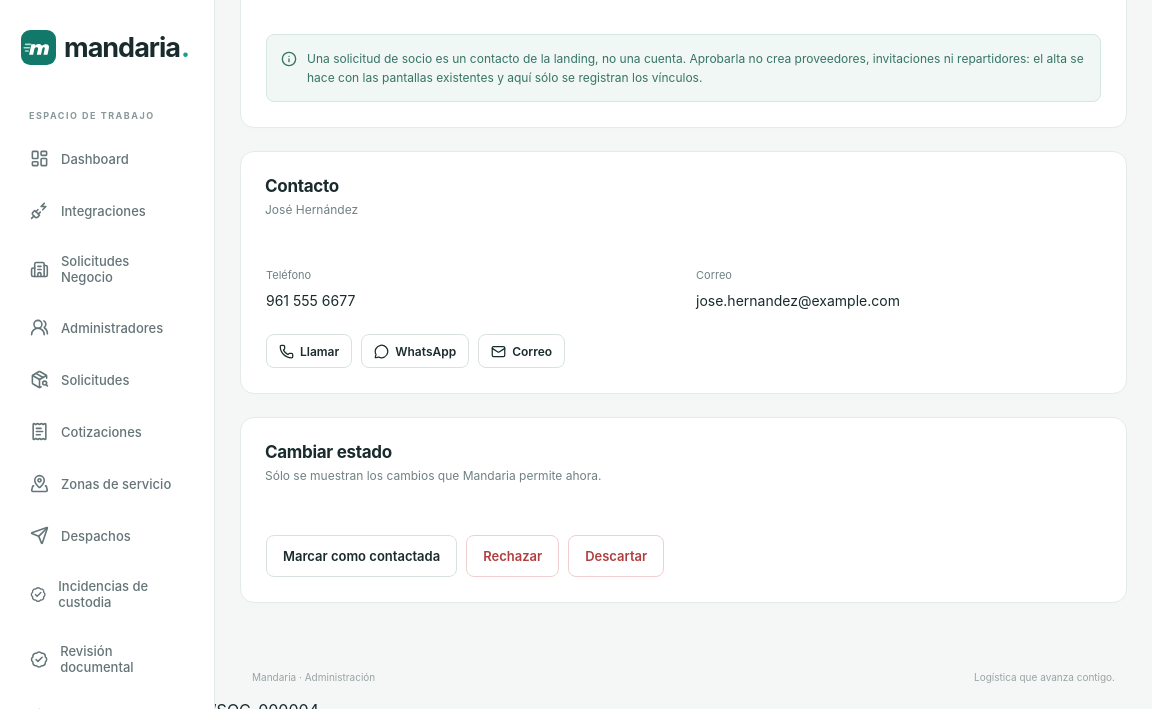
Test case: partner application detail › marks as contacted with an optional note
(page scrolled)
Click the button "Marcar como contactada".
click(362, 556)  # box [266, 534, 457, 576]
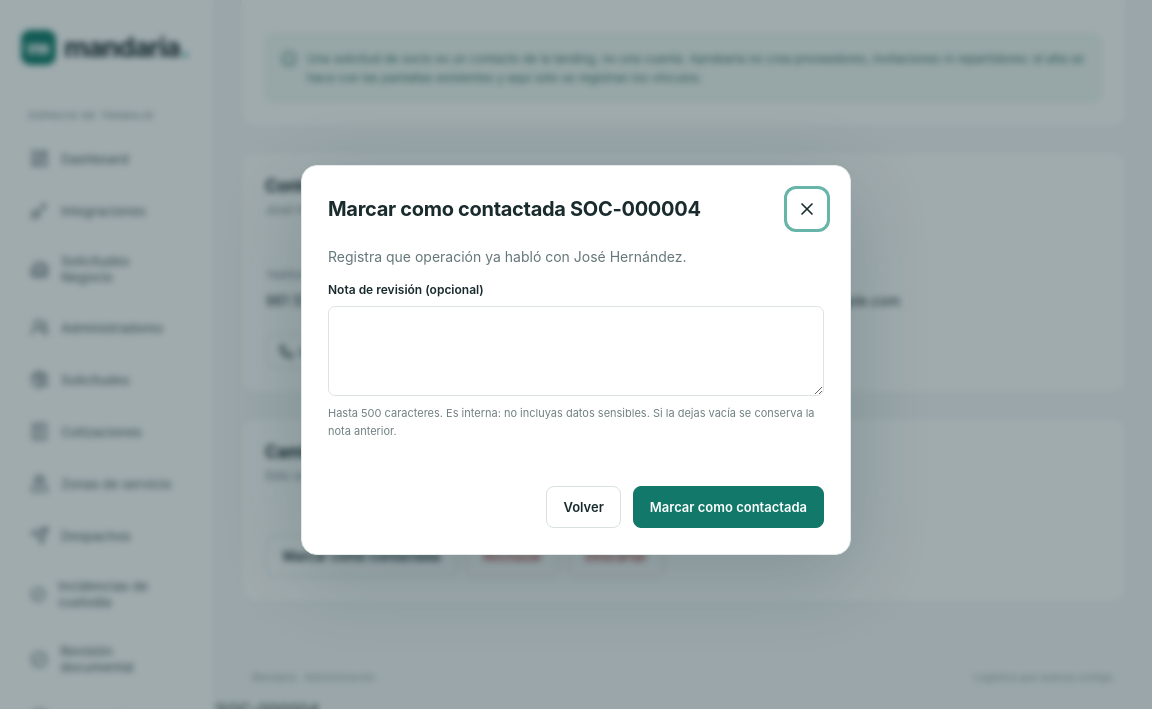
Click the button "Marcar como contactada".
click(728, 507)  # box [633, 486, 824, 528]
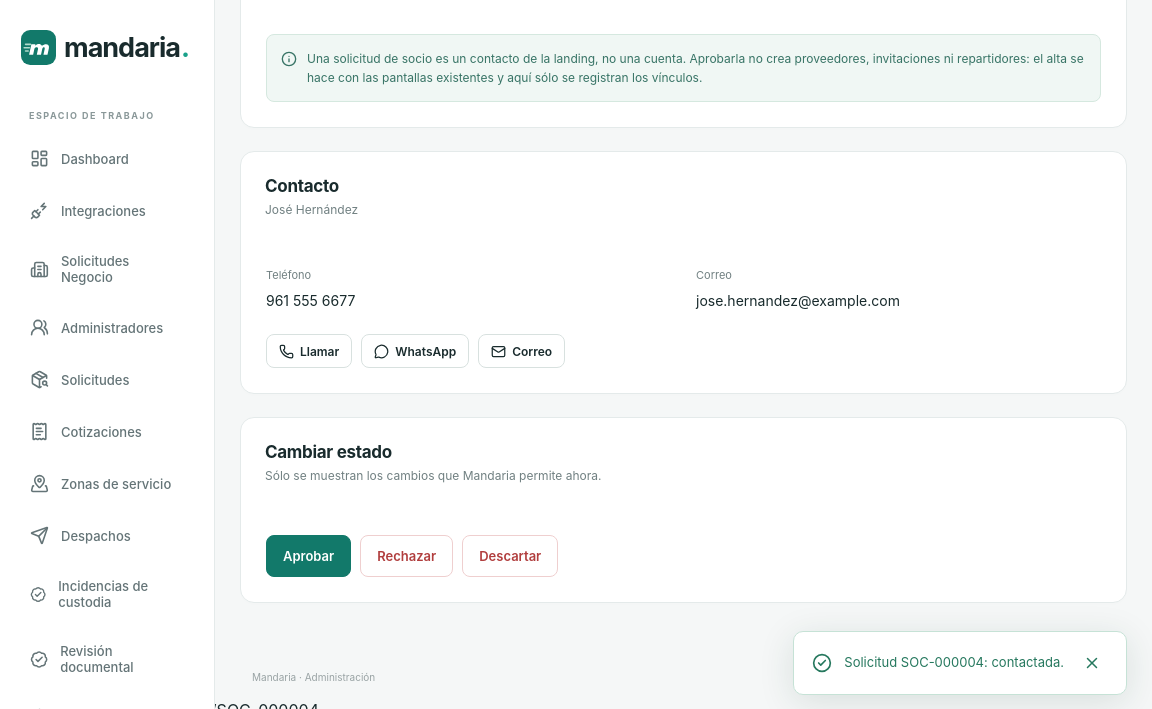
Expected: the button "Aprobar" is shown, [266, 534, 351, 576]
Expected: the text "Solicitud SOC-000004: contactada." is shown, [844, 653, 1064, 673]
